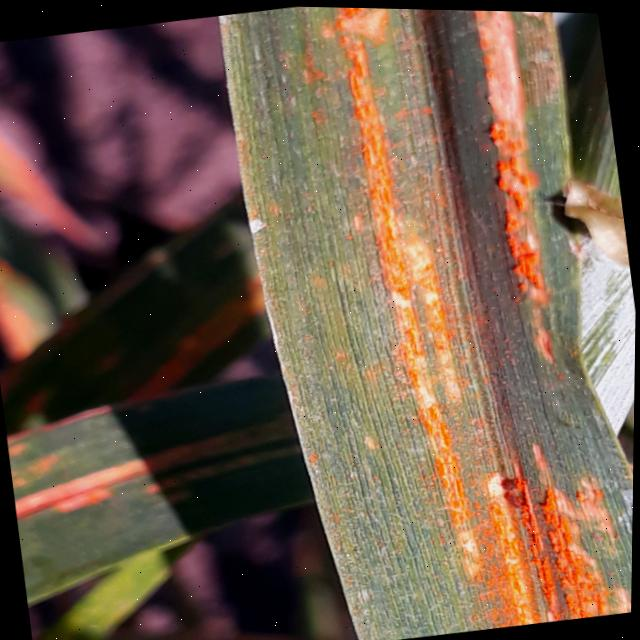yellow_rust: (204, 4, 640, 640), (0, 192, 313, 628)
